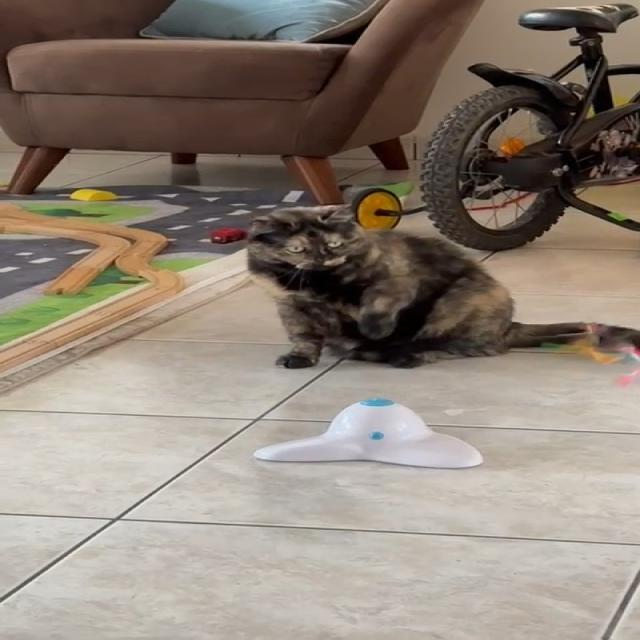authorized: (244, 202, 628, 369)
